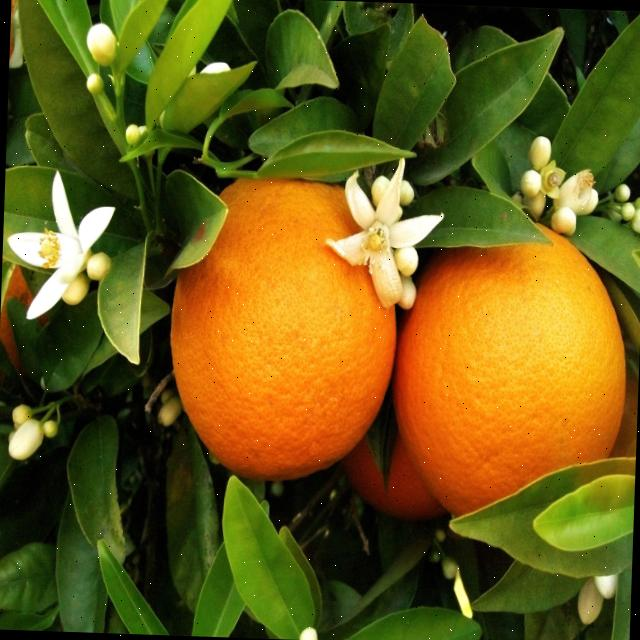Jeruk: (388, 216, 631, 522), (164, 172, 402, 484), (340, 428, 448, 520)
